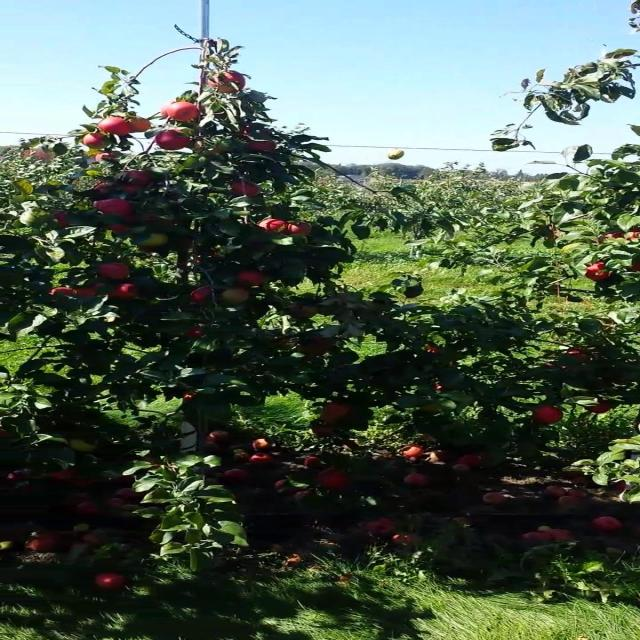apple: (205, 72, 249, 95), (532, 404, 567, 426), (319, 404, 357, 423), (156, 132, 192, 152), (582, 396, 617, 416), (582, 260, 615, 281), (305, 336, 336, 357), (170, 104, 204, 123), (99, 116, 130, 136), (220, 288, 252, 307), (596, 232, 628, 251), (561, 348, 594, 366), (319, 408, 356, 424), (99, 264, 133, 281), (99, 200, 135, 216), (234, 272, 268, 288), (241, 124, 274, 140), (113, 284, 144, 301), (106, 284, 135, 302), (234, 180, 263, 197), (141, 232, 171, 248), (84, 132, 112, 149), (291, 304, 322, 319), (262, 220, 290, 236), (127, 172, 156, 187), (191, 288, 215, 305), (77, 284, 103, 299), (49, 288, 75, 303), (540, 360, 567, 374), (312, 424, 338, 438), (248, 140, 277, 152), (127, 120, 155, 132), (70, 440, 98, 452), (419, 404, 446, 416), (56, 212, 76, 228), (92, 152, 121, 163), (120, 184, 146, 196), (92, 184, 116, 196), (184, 328, 208, 340), (291, 224, 313, 237), (433, 384, 459, 395), (141, 216, 169, 226), (106, 224, 133, 233), (426, 344, 446, 356), (120, 212, 140, 224), (625, 260, 639, 274), (184, 392, 201, 403)
